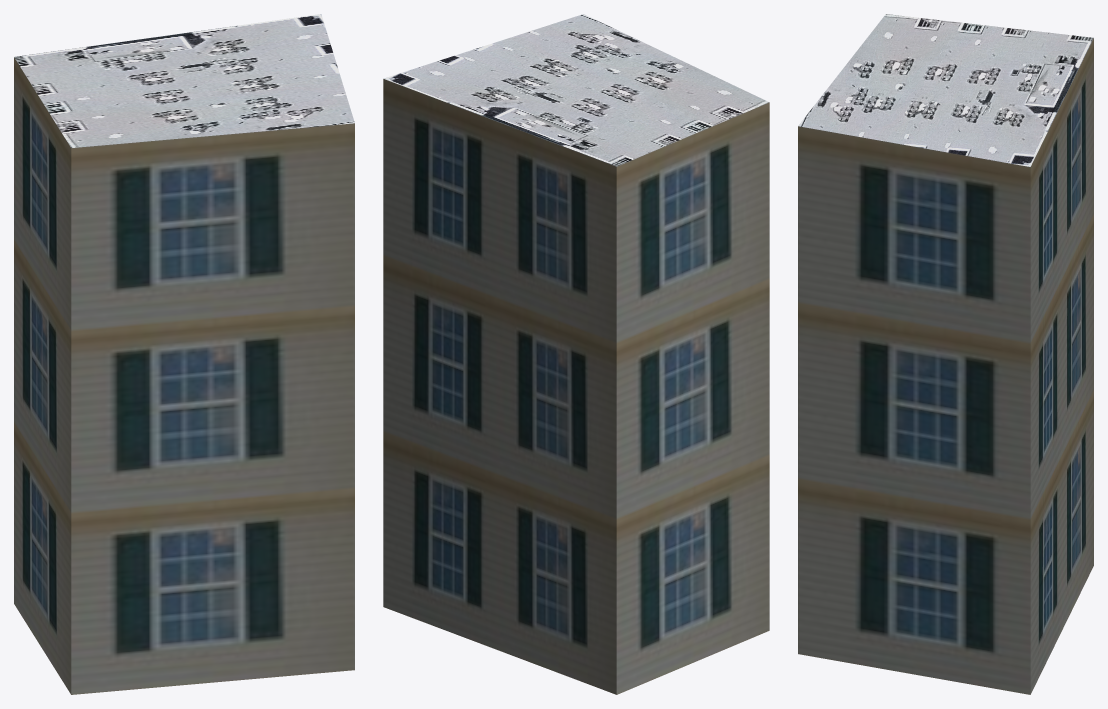
The model's file is ResTex__878.fbx.
The picture shows the model from 3 angles, left to right: view 1: azimuth 30°, elevation 25°; view 2: azimuth 150°, elevation 25°; view 3: azimuth 270°, elevation 25°; orthographic projection. The views are drawn at different scales.
Visible parts, largest first — view 1: CityEngineMaterial_7_m, CityEngineMaterial_4_m; view 2: CityEngineMaterial_7_m, CityEngineMaterial_4_m; view 3: CityEngineMaterial_7_m, CityEngineMaterial_4_m.
Boxes of the visible parts, bbox=[...] form: CityEngineMaterial_7_m: bbox=[14, 57, 354, 694]; CityEngineMaterial_4_m: bbox=[14, 14, 354, 147]; CityEngineMaterial_7_m: bbox=[383, 79, 769, 694]; CityEngineMaterial_4_m: bbox=[384, 14, 769, 166]; CityEngineMaterial_7_m: bbox=[798, 38, 1093, 694]; CityEngineMaterial_4_m: bbox=[798, 14, 1093, 166].
Bounding box in the file's own units: 5.6 × 9 × 4.57.
2 materials, 2 textured.
